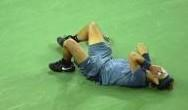Fall-Detected: (47, 17, 178, 90)
